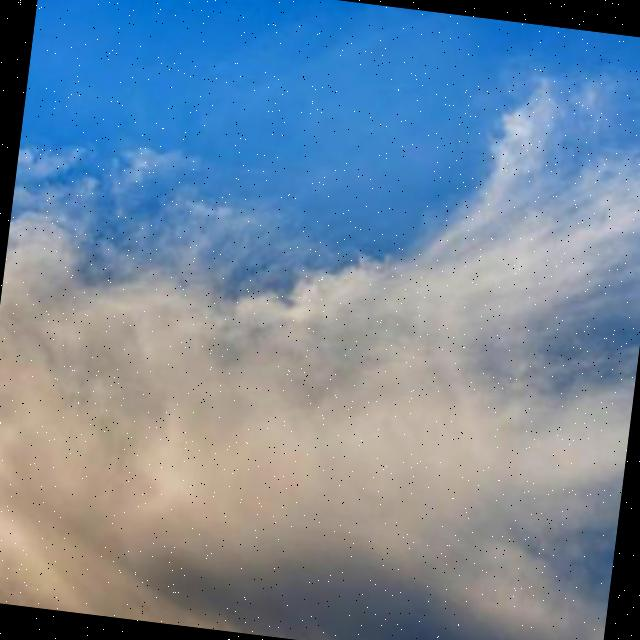As: (1, 160, 640, 640)
